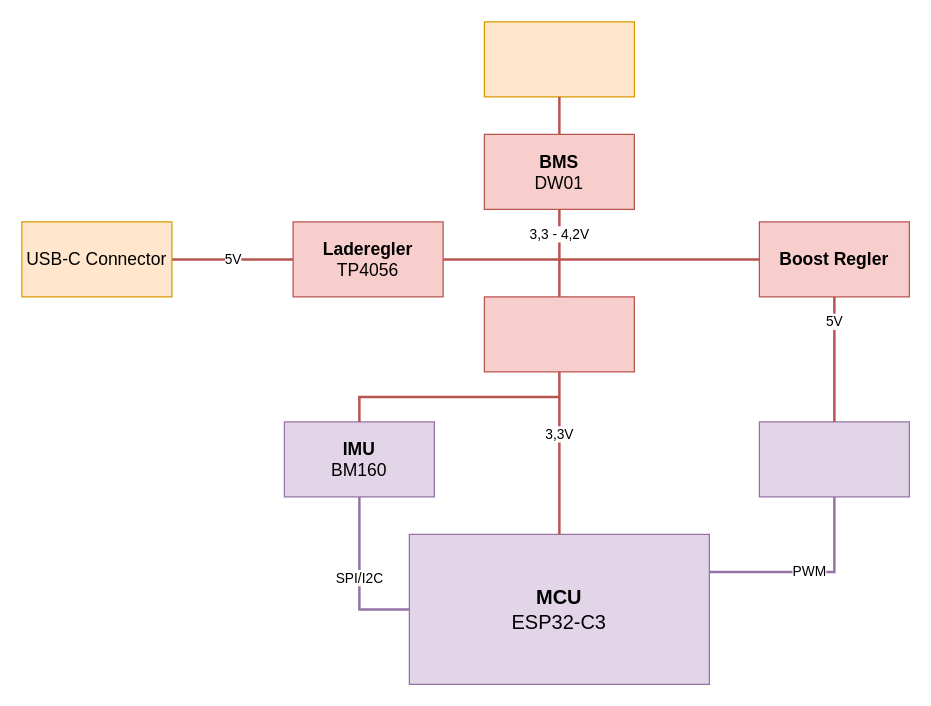
Image size: 931x706. Some labels were removed from this diagram. The shapes that lost their labels are listed below. From the top down, each one's box as (x1, y1, x2, y2) in pixels, then its label:
(483, 21, 634, 97): Batterie
(483, 296, 634, 372): LDO
(758, 421, 909, 497): Servo
